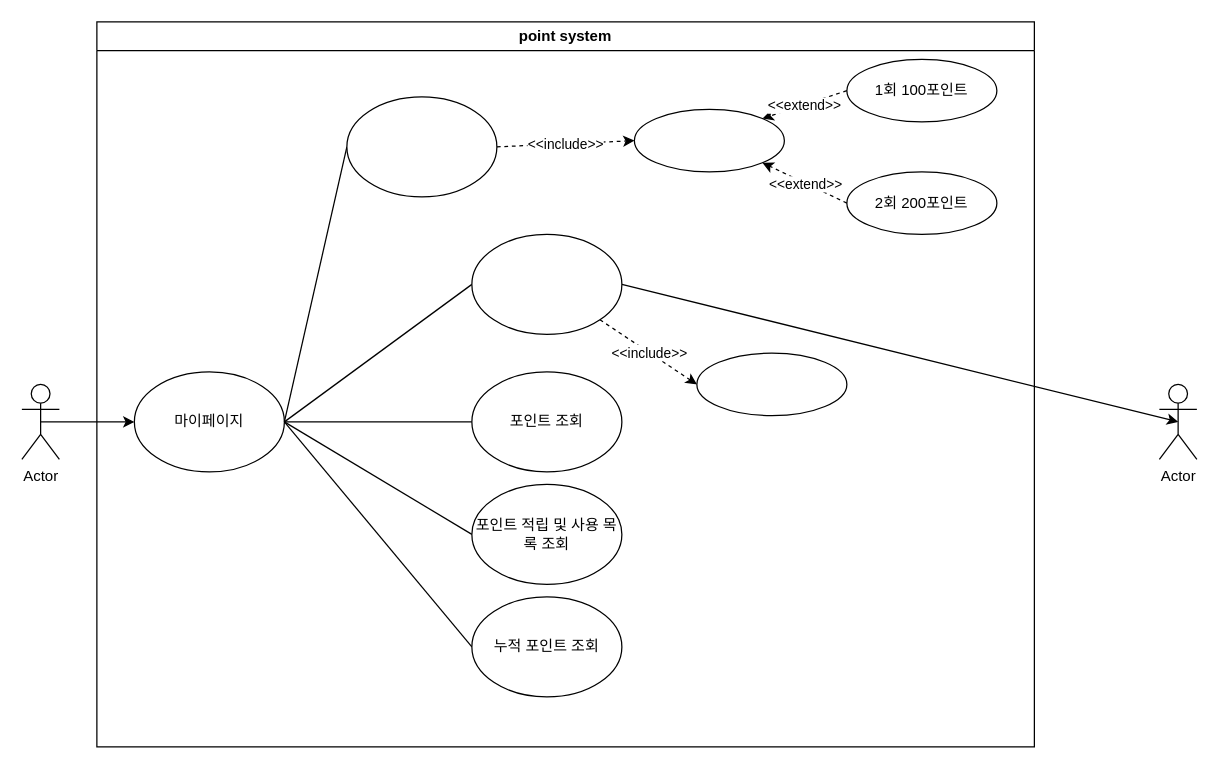
This 1219x769 diagram has some shape labels left out. Each missing label, with the box of its shape:
영수증 등록: (633, 108, 784, 172)
잔여 포인트 조회: (696, 352, 847, 416)
포인트 사용: (471, 233, 622, 334)
포인트 적립: (346, 96, 497, 197)
